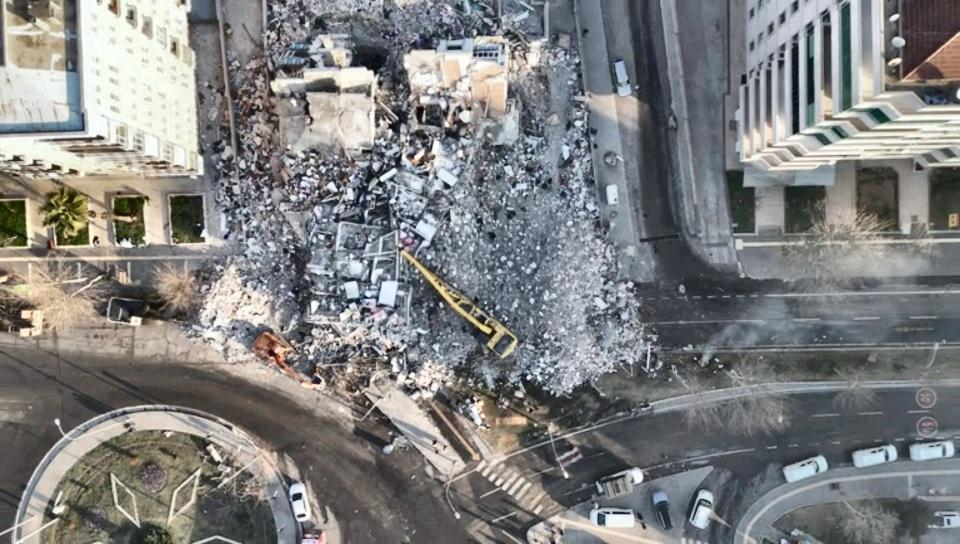kapali: (85, 285, 685, 349)
